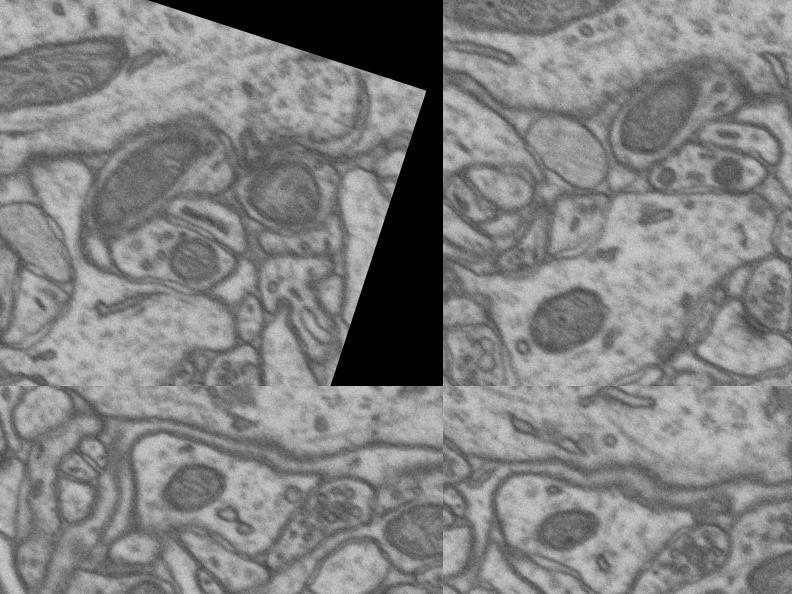mitochondria: (68, 90, 228, 264), (0, 0, 145, 158), (443, 0, 656, 84), (603, 48, 719, 177), (510, 264, 622, 378), (230, 138, 342, 246), (148, 434, 257, 534), (358, 473, 443, 587), (533, 484, 629, 570), (154, 224, 238, 299), (697, 140, 760, 204), (737, 526, 792, 594), (101, 557, 183, 594)
